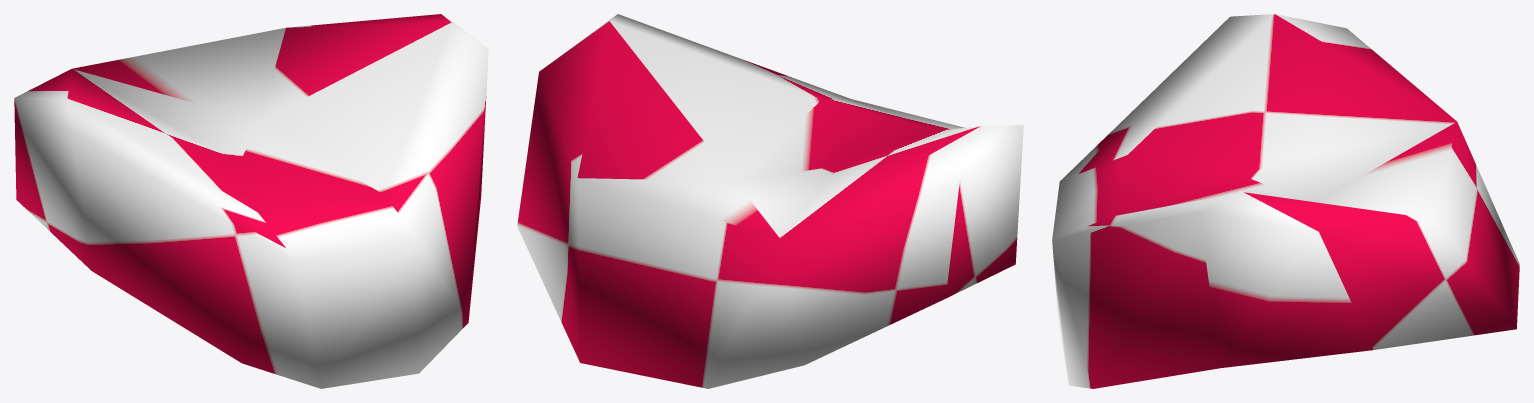
The model's file is spine.obj.
3 views of the same model, side by side, from view 1: azimuth 30°, elevation 25°; view 2: azimuth 150°, elevation 25°; view 3: azimuth 270°, elevation 25° (orthographic). The views are drawn at different scales.
Parts seen in each view (by area): view 1: Alpha_Surface_Alpha_SurfaceMesh; view 2: Alpha_Surface_Alpha_SurfaceMesh; view 3: Alpha_Surface_Alpha_SurfaceMesh.
Boxes of the visible parts, x1=… form: Alpha_Surface_Alpha_SurfaceMesh: x1=14, y1=14, x2=488, y2=388; Alpha_Surface_Alpha_SurfaceMesh: x1=517, y1=14, x2=1023, y2=388; Alpha_Surface_Alpha_SurfaceMesh: x1=1052, y1=14, x2=1519, y2=388.
Size of the model in its own units: 0.2664 by 0.1591 by 0.266.
